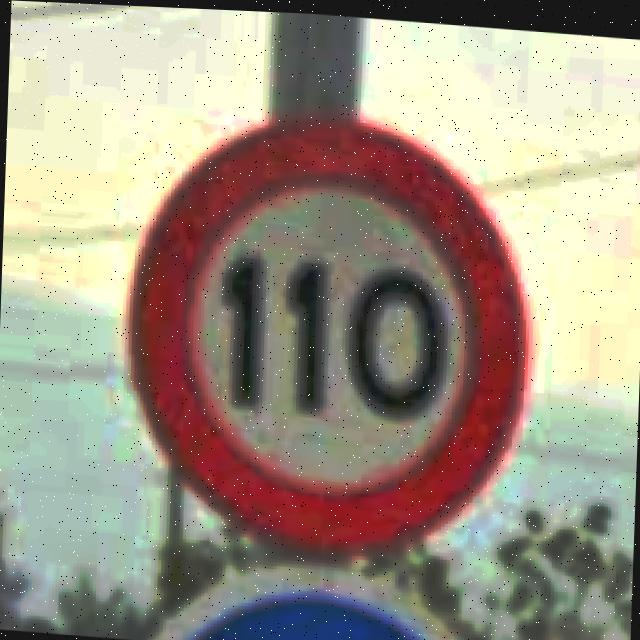max110: (115, 92, 540, 568)
